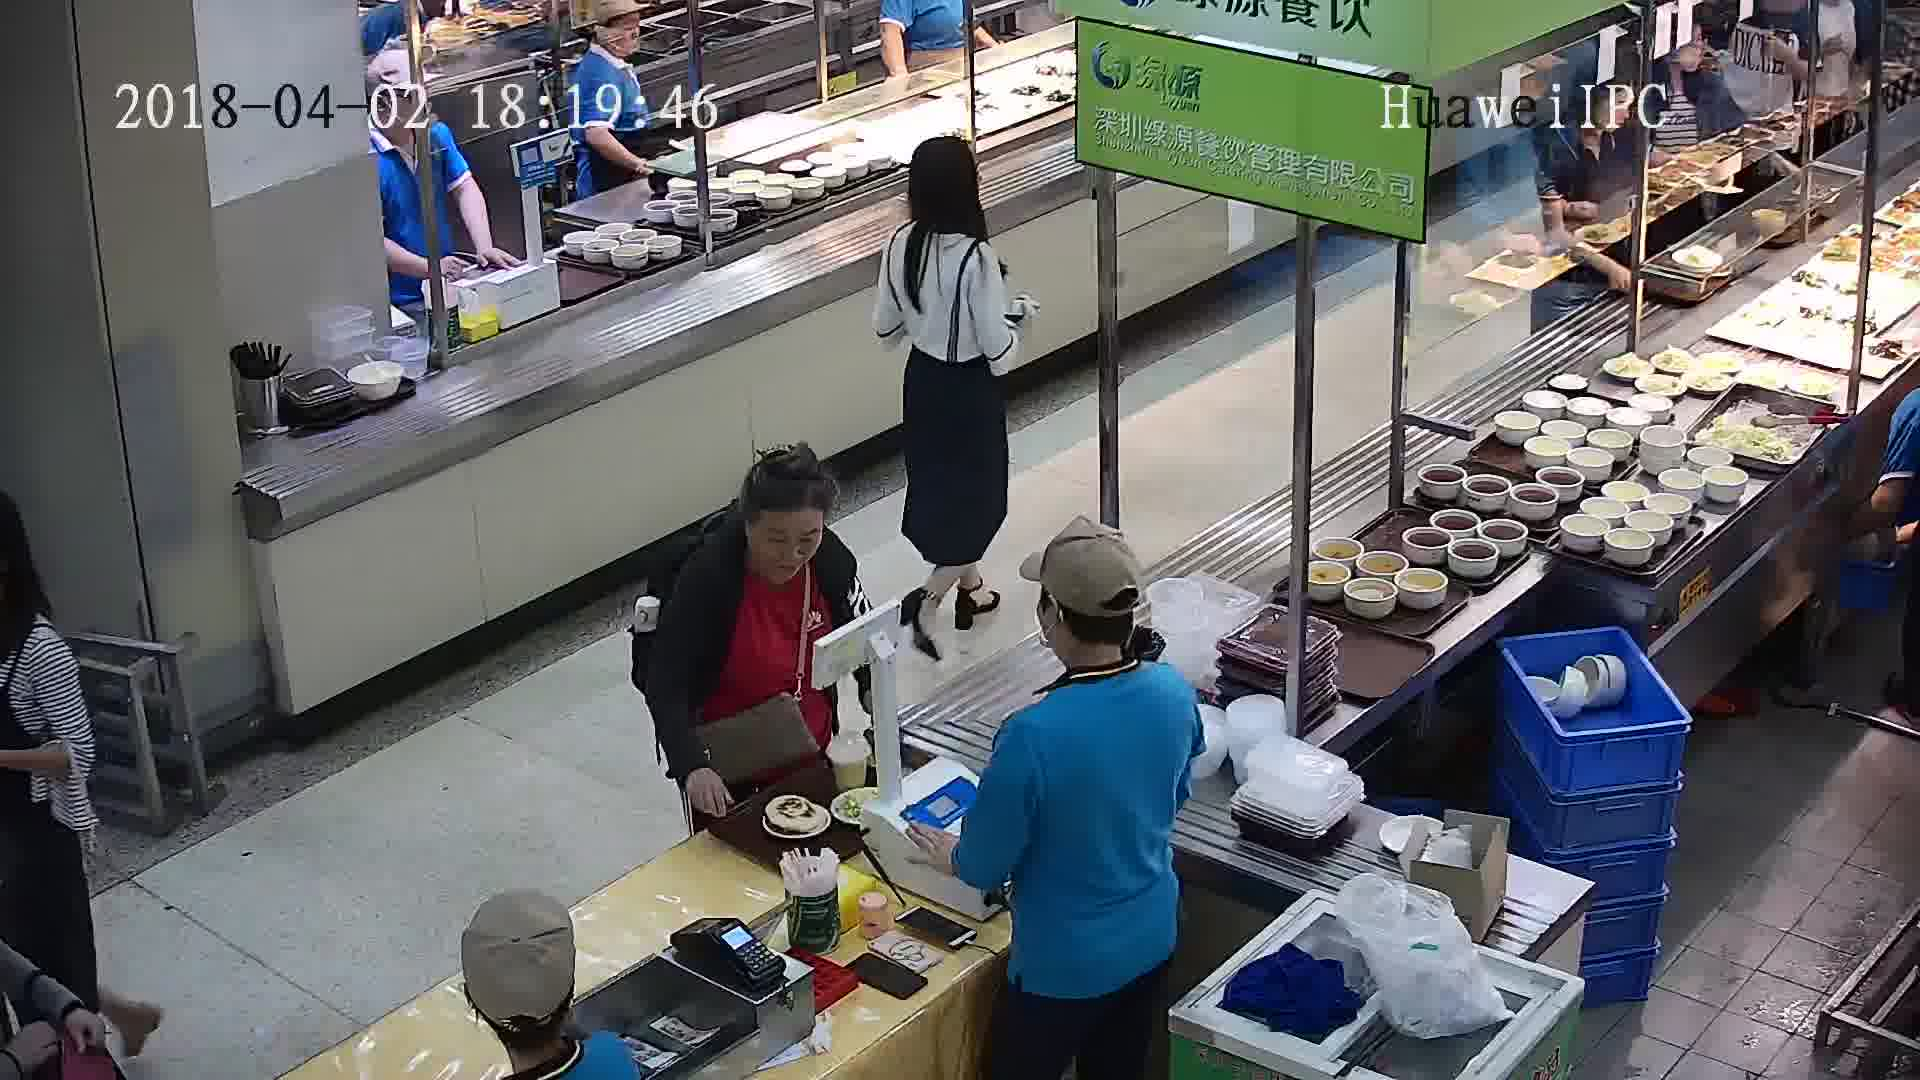face: (748, 506, 823, 581), (1668, 25, 1715, 72)
person: (995, 522, 1202, 771), (436, 886, 667, 1079), (668, 440, 862, 622), (881, 132, 1001, 293), (0, 487, 68, 707), (367, 68, 455, 162), (569, 8, 649, 97)
